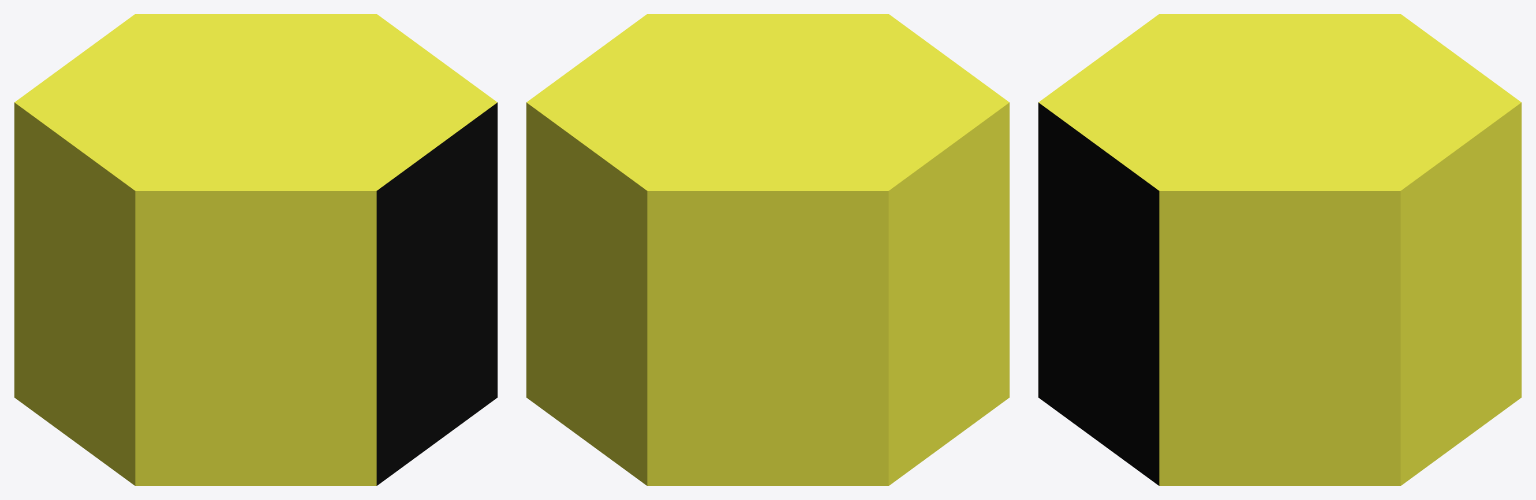
File: spawn_trinket.glb
3 views of the same model, side by side, from view 1: azimuth 30°, elevation 25°; view 2: azimuth 150°, elevation 25°; view 3: azimuth 270°, elevation 25° (orthographic).
Parts seen in each view (by area): view 1: SpawnTrinket-col; view 2: SpawnTrinket-col; view 3: SpawnTrinket-col.
Boxes of the visible parts, x1=… form: SpawnTrinket-col: x1=14, y1=14, x2=497, y2=485; SpawnTrinket-col: x1=526, y1=14, x2=1009, y2=485; SpawnTrinket-col: x1=1038, y1=14, x2=1521, y2=485.
Bounding box in the file's own units: 0.6424 × 0.5 × 0.7418.
1 material, 1 textured.
